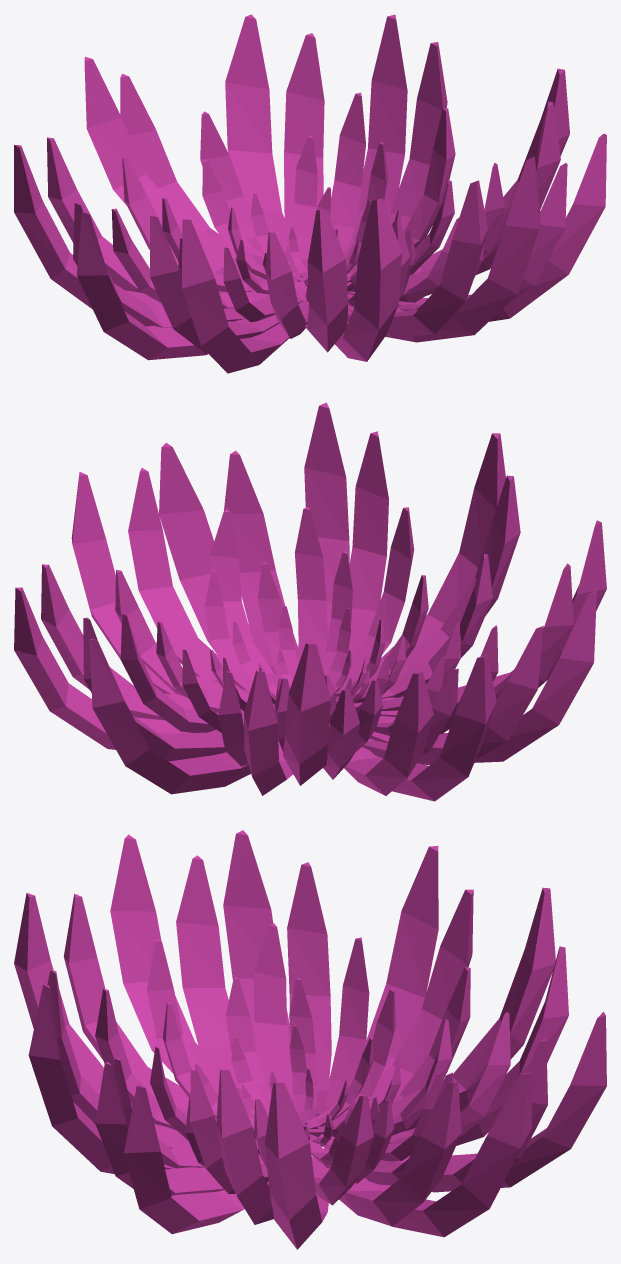
The model's file is coral_1.FBX.
3 views of the same model, one above another, from view 1: azimuth 30°, elevation 25°; view 2: azimuth 150°, elevation 25°; view 3: azimuth 270°, elevation 25° (orthographic). The views are drawn at different scales.
Visible parts, largest first — view 1: coral_1; view 2: coral_1; view 3: coral_1.
Part boxes in pixels (x1,y1,x2,y2): coral_1: (14,14,606,373); coral_1: (14,402,606,801); coral_1: (14,830,606,1249).
Size of what is drawn, in the model's own units: 67.5 by 63.08 by 30.07.
